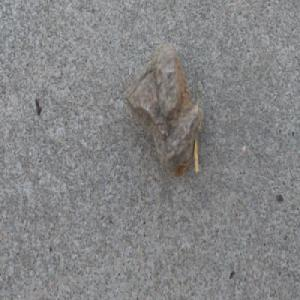Rock: (123, 41, 203, 177)
